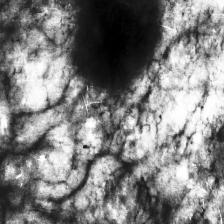Benign Marking or Mole: (76, 0, 161, 88)
